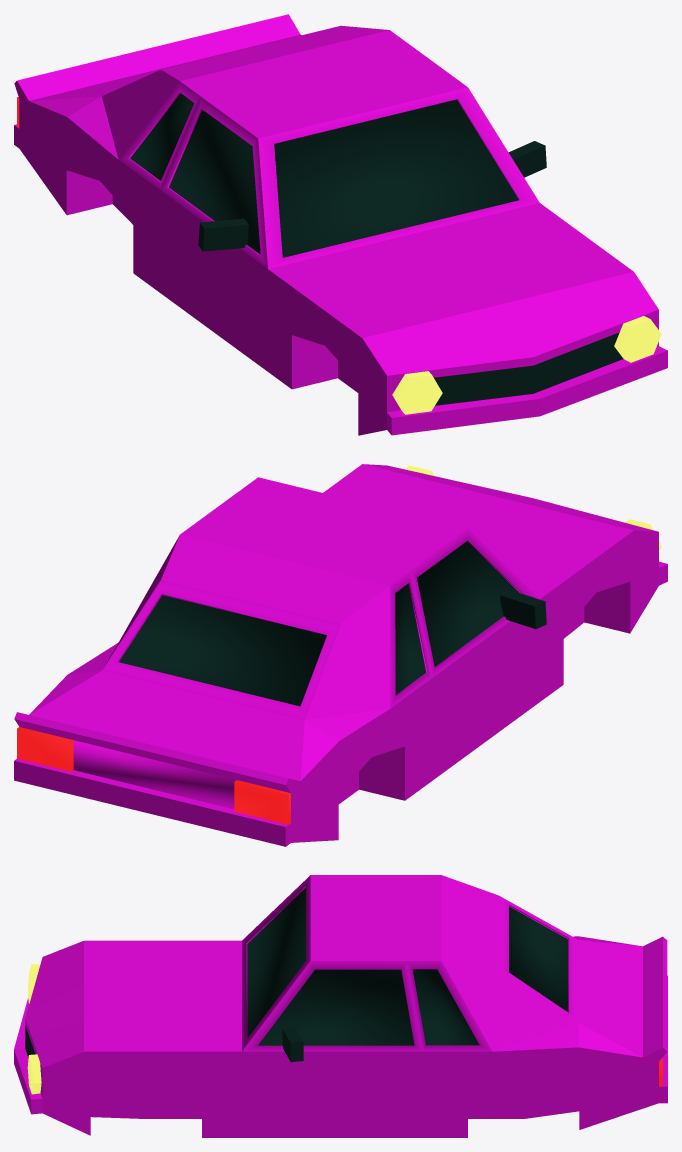
File: musclecar.glb
3 views of the same model, one above another, from view 1: azimuth 30°, elevation 25°; view 2: azimuth 150°, elevation 25°; view 3: azimuth 270°, elevation 25° (orthographic). The views are drawn at different scales.
Parts seen in each view (by area): view 1: SM_Veh_Car_Muscle_01; view 2: SM_Veh_Car_Muscle_01; view 3: SM_Veh_Car_Muscle_01.
Part boxes in pixels (left/top/right/bottom): SM_Veh_Car_Muscle_01: left=14, top=14, right=667, bottom=435; SM_Veh_Car_Muscle_01: left=14, top=464, right=667, bottom=846; SM_Veh_Car_Muscle_01: left=14, top=875, right=667, bottom=1137.
Size of the model in its own units: 0.8455 by 0.4604 by 1.66.
